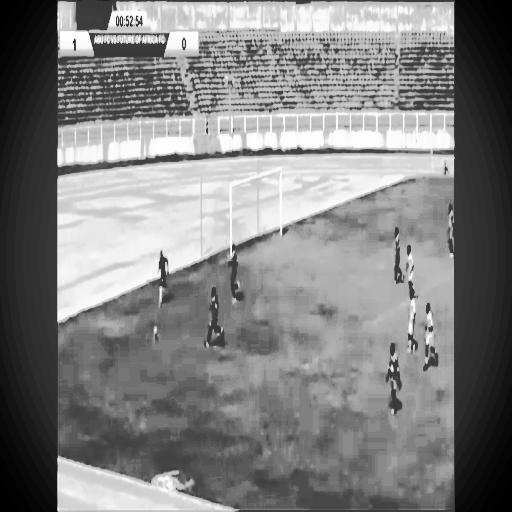ball: (154, 324, 160, 337)
keeper2: (158, 242, 170, 308)
team1: (421, 293, 439, 375), (404, 280, 421, 360), (404, 236, 416, 296)
team2: (384, 333, 405, 421), (224, 239, 246, 316), (206, 277, 227, 353), (390, 224, 403, 288), (443, 192, 454, 259)
